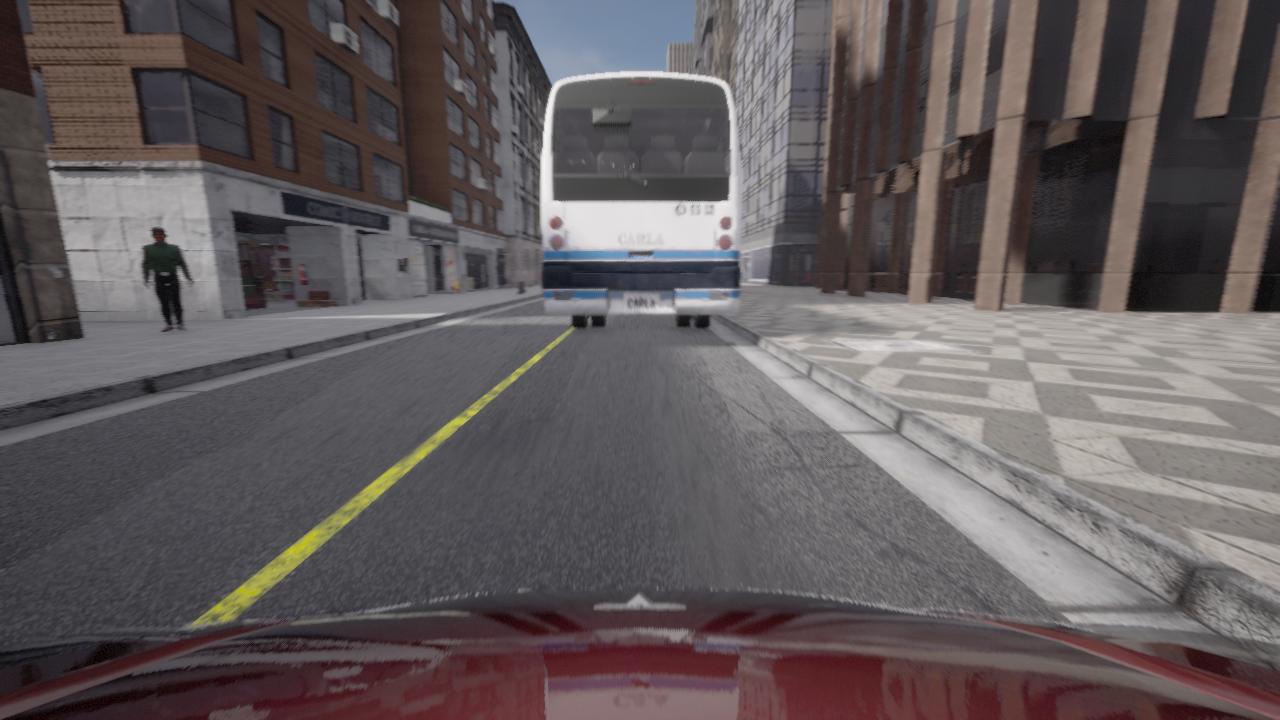cyclist: (0, 588, 1279, 719), (542, 72, 740, 328)
pedestrian: (141, 227, 193, 331)
